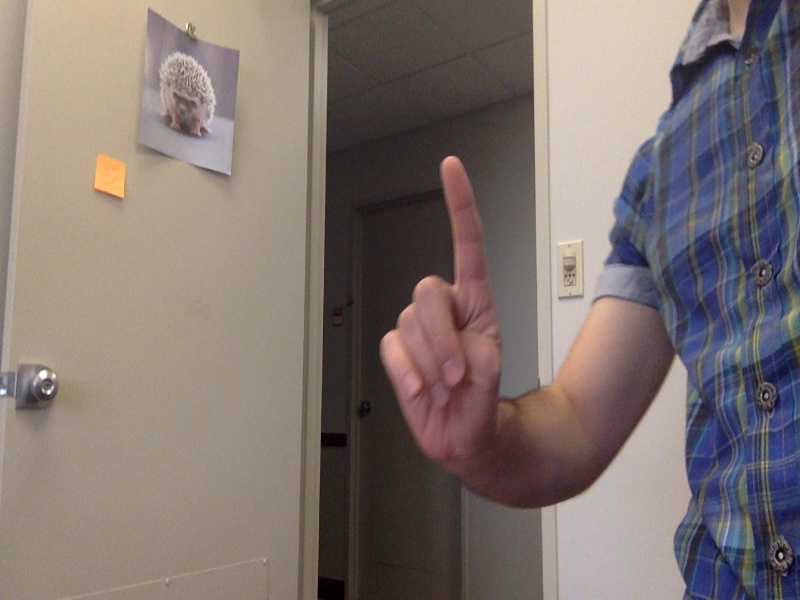1-hand: (376, 155, 501, 465)
